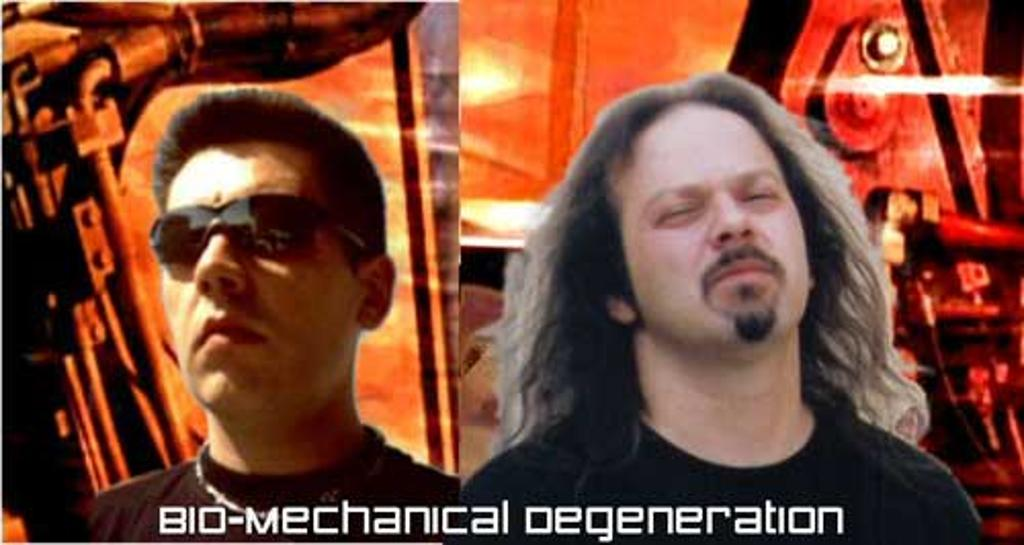face: (162, 144, 354, 414), (624, 100, 810, 344)
